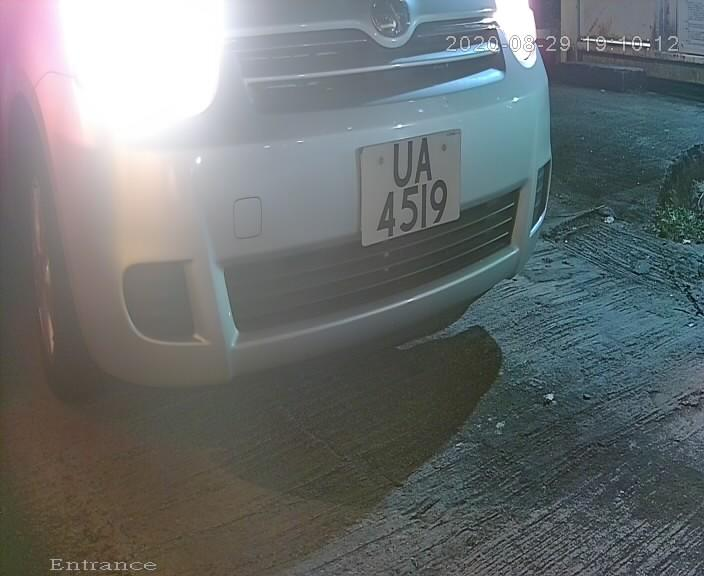License Plate: (356, 119, 466, 263)
